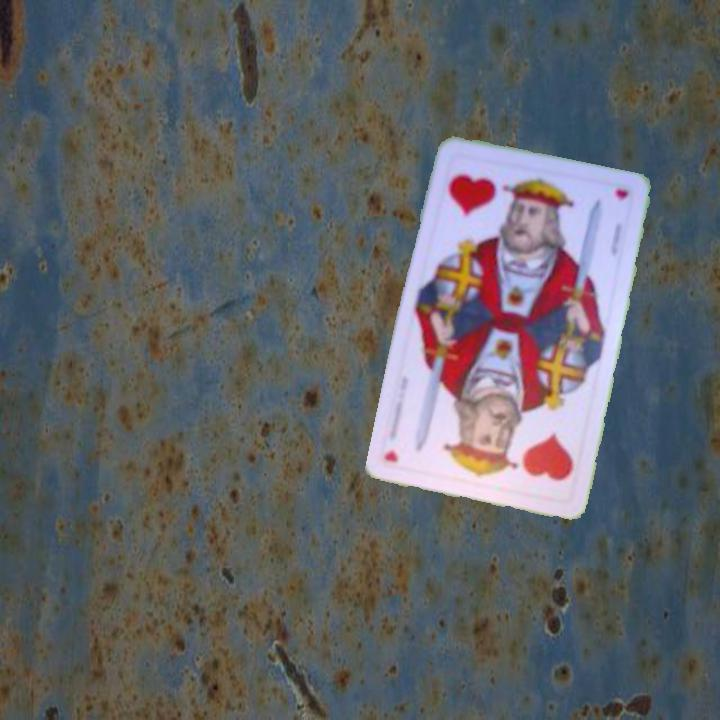h_k.png: (429, 150, 544, 254), (474, 400, 588, 504)
